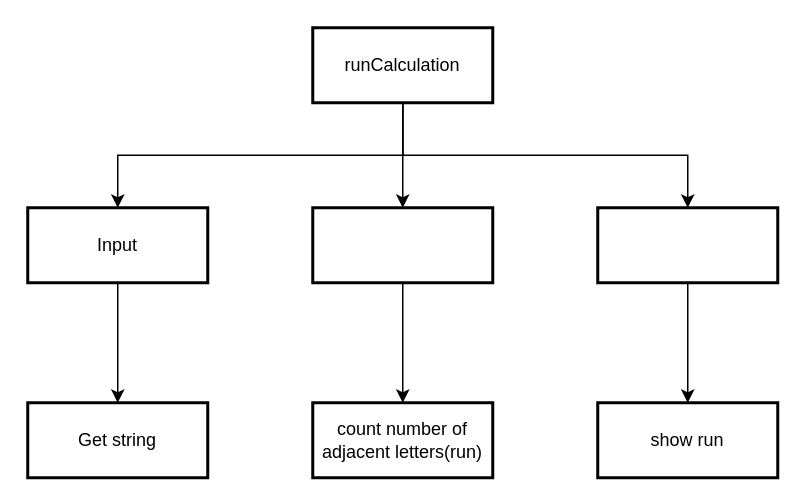
The diagram is 804 pixels wide and 504 high, and some of its shapes have lost their labels. Here are the shapes that lost their labels. From the top down, the centre of each, then its label:
the point at 402,245: Process
the point at 687,245: Output
